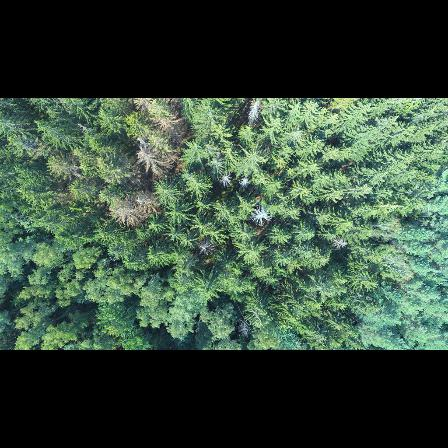Dead: (109, 189, 159, 228), (137, 144, 175, 175), (243, 99, 263, 127), (248, 204, 273, 226), (195, 238, 217, 257), (218, 173, 232, 188), (239, 176, 252, 187)
